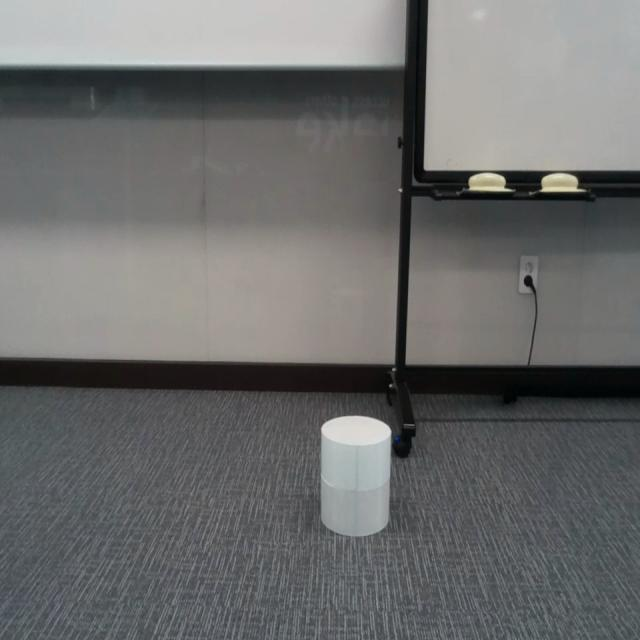cylinder: (320, 415, 390, 537)
